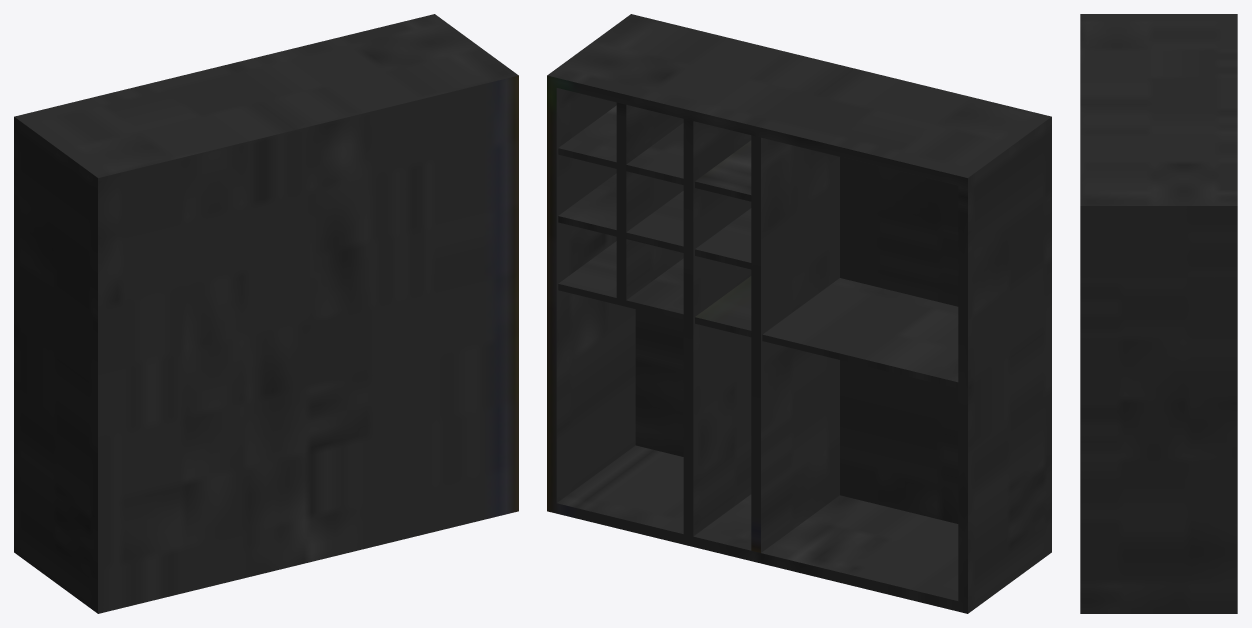
Rendered from Closet10.glb.
3 views of the same model, side by side, from view 1: azimuth 30°, elevation 25°; view 2: azimuth 150°, elevation 25°; view 3: azimuth 270°, elevation 25° (orthographic). The views are drawn at different scales.
Parts seen in each view (by area): view 1: Closet10_model; view 2: Closet10_model; view 3: Closet10_model.
Boxes of the visible parts, x1,y1,x2,y2 form: Closet10_model: [14, 14, 518, 613]; Closet10_model: [547, 14, 1051, 613]; Closet10_model: [1080, 14, 1237, 613].
Bounding box in the file's own units: 5.65 × 5.6 × 1.96.
Materials: 1 (1 with a texture image).
